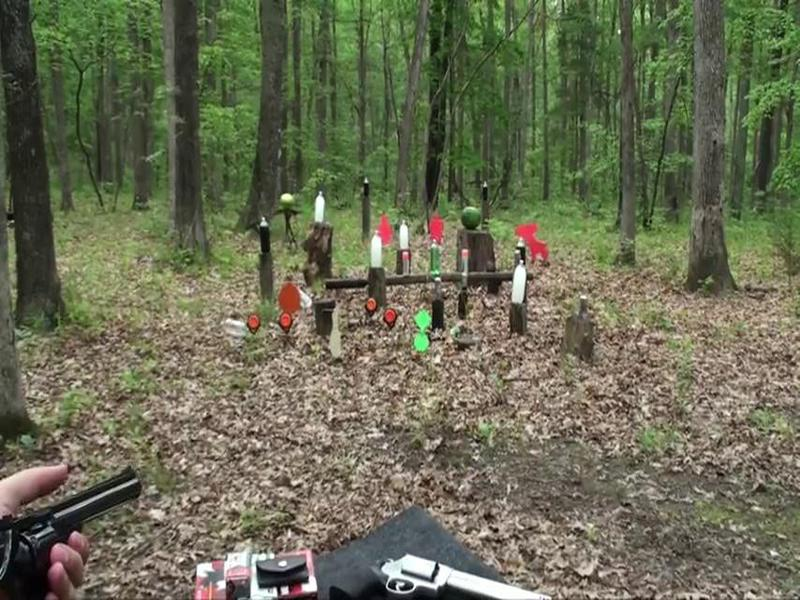Revolver: (3, 463, 146, 600)
